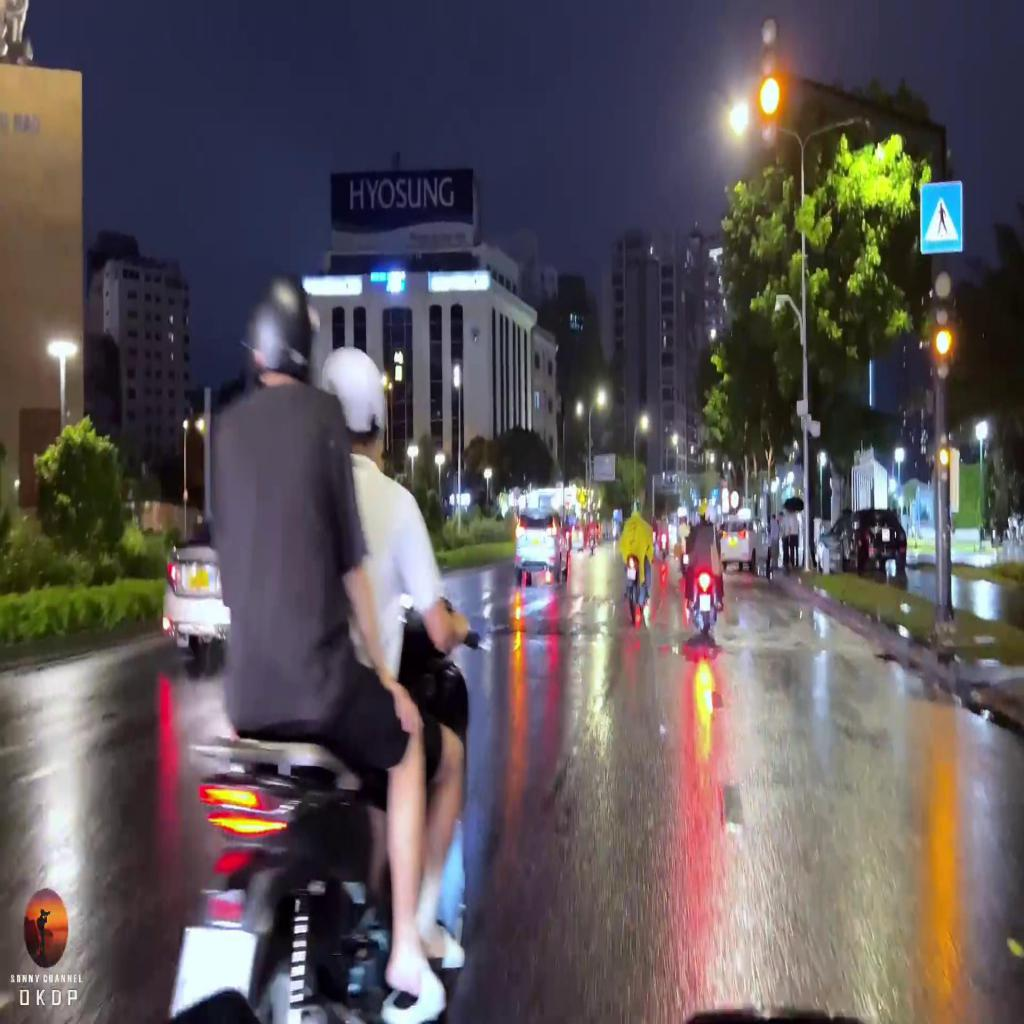duong_nguoi_di_bo_sang_ngang: (921, 181, 961, 252)
